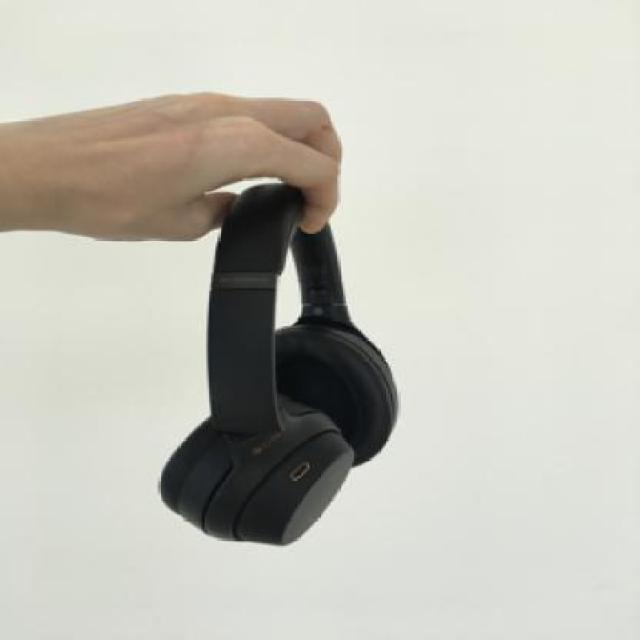earphone: (178, 36, 431, 640)
